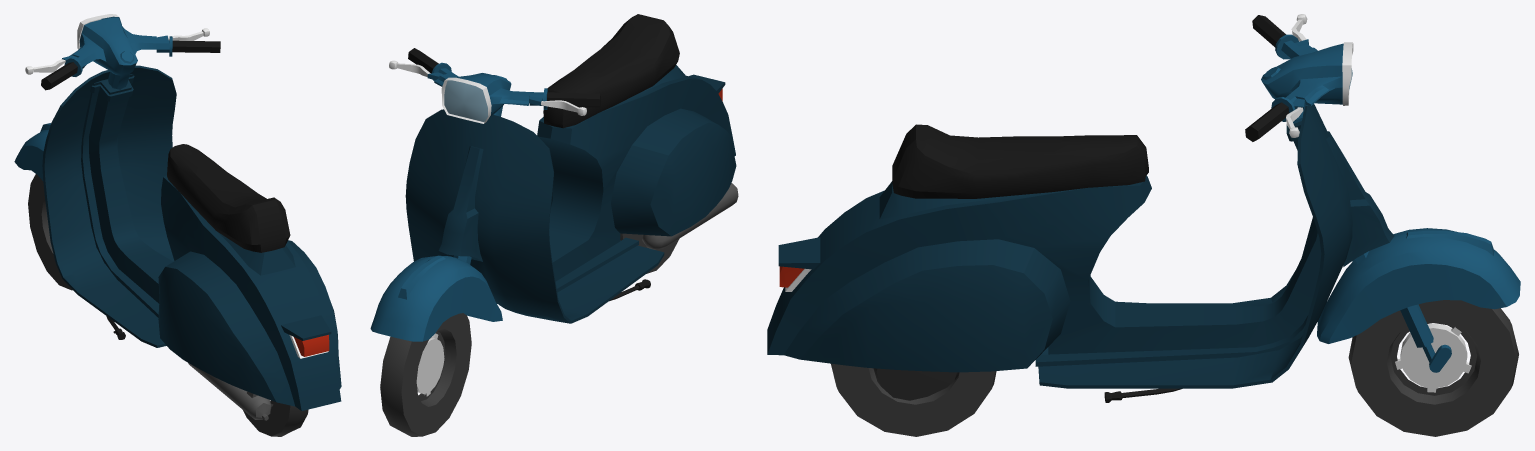
The model's file is motor vespa.fbx.
3 views of the same model, side by side, from view 1: azimuth 30°, elevation 25°; view 2: azimuth 150°, elevation 25°; view 3: azimuth 270°, elevation 25° (orthographic). The views are drawn at different scales.
Parts seen in each view (by area): view 1: bodi, stsang, ban depan, ban depan.001; view 2: bodi, stsang, ban depan, ban depan.001; view 3: bodi, stsang, ban depan, ban depan.001.
Part boxes in pixels (bbox=[...]): bodi: bbox=[42, 65, 341, 420]; stsang: bbox=[14, 14, 220, 180]; ban depan: bbox=[28, 174, 72, 290]; ban depan.001: bbox=[243, 399, 308, 436]; bodi: bbox=[405, 14, 738, 323]; stsang: bbox=[370, 48, 600, 341]; ban depan: bbox=[380, 313, 471, 436]; ban depan.001: bbox=[620, 233, 679, 273]; bodi: bbox=[767, 104, 1394, 402]; stsang: bbox=[1245, 14, 1520, 372]; ban depan: bbox=[1348, 300, 1518, 436]; ban depan.001: bbox=[831, 363, 996, 436].
Size of the model in its own units: 101 by 157 by 281.
